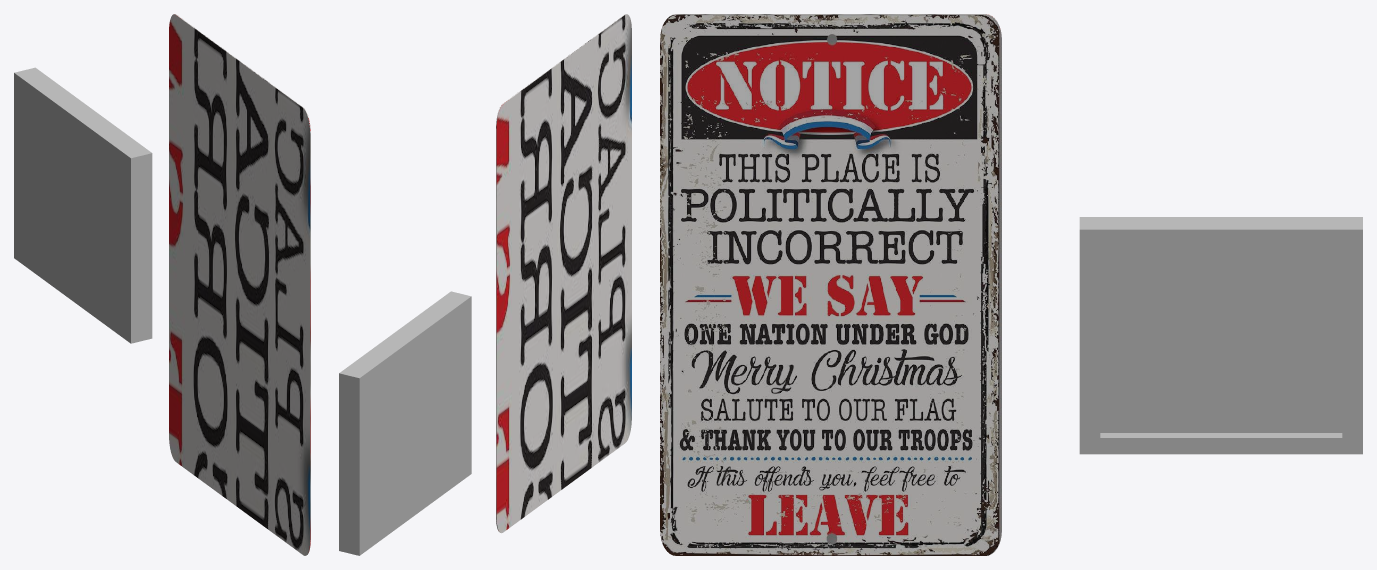
Rendered from Poster2.fbx.
3 renders of one model, left to right at view 1: azimuth 30°, elevation 25°; view 2: azimuth 150°, elevation 25°; view 3: azimuth 270°, elevation 25°, orthographic. The views are drawn at different scales.
Visible parts, largest first — view 1: Cube.002, Cube.001; view 2: Cube.002, Cube.001; view 3: Cube.002, Cube.001.
Part boxes in pixels (x1,y1,x2,y2): Cube.002: (169, 14, 310, 555); Cube.001: (14, 67, 152, 343); Cube.002: (496, 14, 631, 533); Cube.001: (339, 291, 471, 555); Cube.002: (660, 14, 1001, 555); Cube.001: (1079, 217, 1362, 454).
Bounding box in the file's own units: 42.95 × 859 × 1010.
